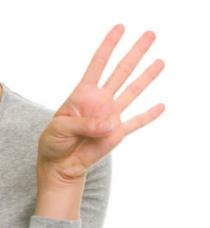right: (48, 19, 167, 171)
